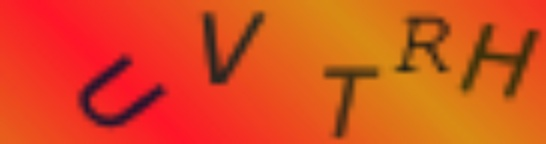H: (456, 21, 542, 98)
R: (392, 15, 456, 76)
T: (316, 64, 382, 139)
U: (74, 53, 169, 132)
V: (195, 7, 271, 90)
